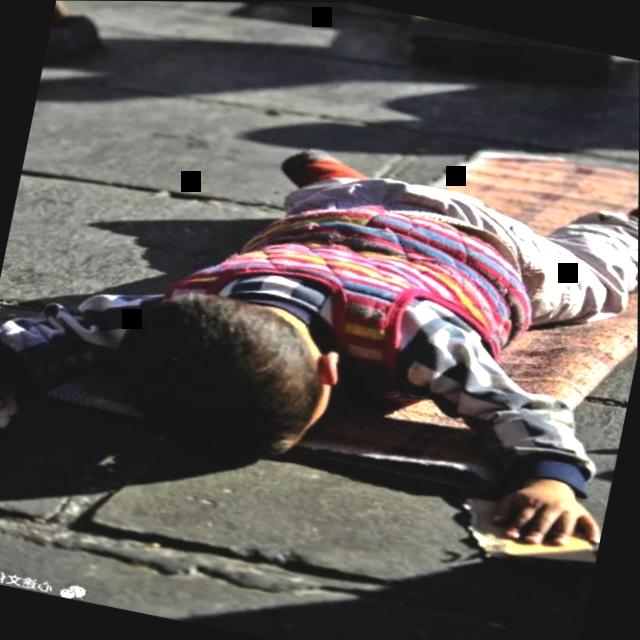Fall-Detected: (0, 51, 640, 601)
